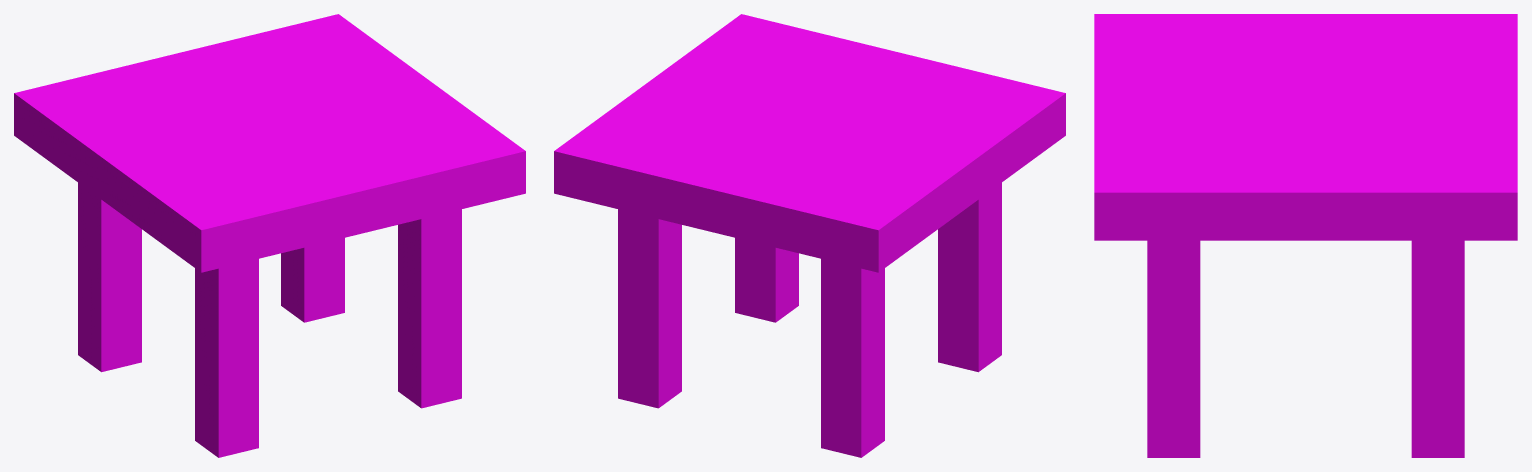
The model's file is table.obj.
3 renders of one model, left to right at view 1: azimuth 30°, elevation 25°; view 2: azimuth 150°, elevation 25°; view 3: azimuth 270°, elevation 25°, orthographic. The views are drawn at different scales.
Visible parts, largest first — view 1: table_back; view 2: table_back; view 3: table_back.
Part boxes in pixels (bbox=[...]): table_back: bbox=[14, 14, 525, 457]; table_back: bbox=[554, 14, 1065, 457]; table_back: bbox=[1094, 14, 1517, 457].
Bounding box in the file's own units: 1.28 × 0.96 × 1.28.
